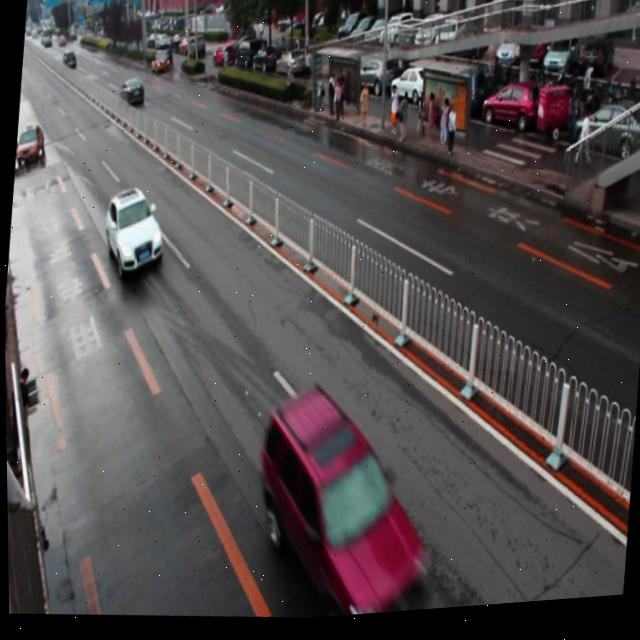car: (245, 377, 442, 626), (100, 183, 167, 280)
